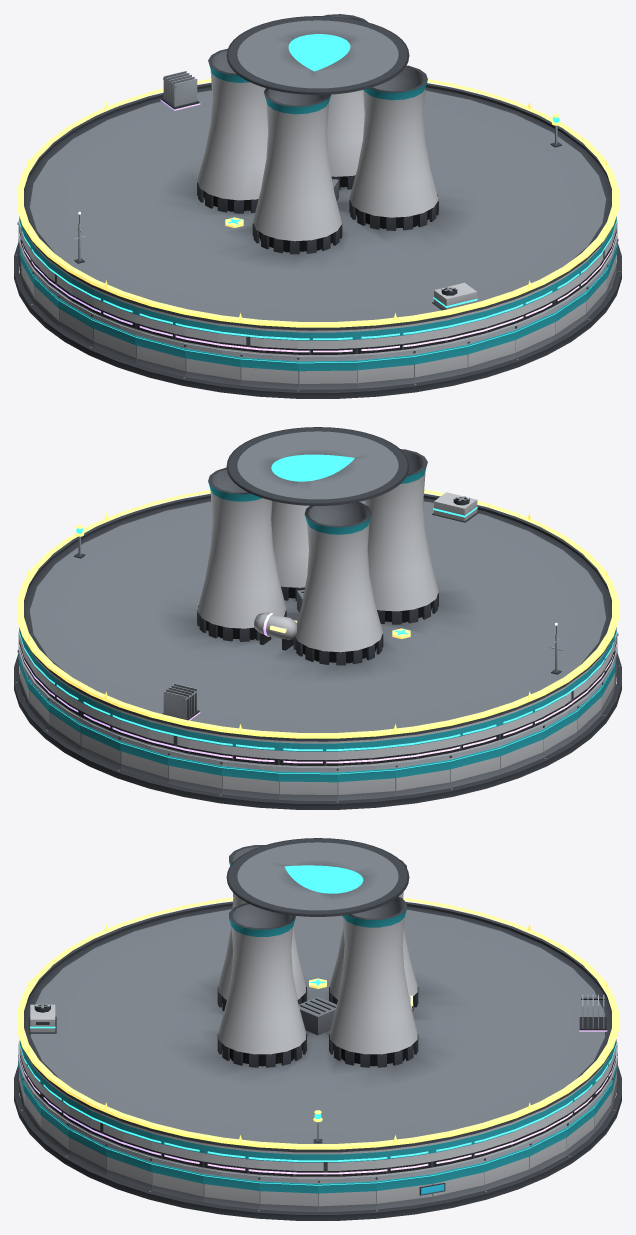
The model's file is atmo_processor_xl.glb.
The picture shows the model from 3 angles, top to bottom: view 1: azimuth 30°, elevation 25°; view 2: azimuth 150°, elevation 25°; view 3: azimuth 270°, elevation 25°; orthographic projection.
Parts seen in each view (by area): view 1: Roof, Base, Wall_20, Wall_21, Wall_22, Wall_19, Wall_23, Wall_18, Upper_21, Wall_24, Upper_22, Upper_20 (+17 smaller); view 2: Roof, Base, L4, Wall_11, Wall_10, Wall_09, Wall_12, Wall_08, Wall_13, Upper_10, Wall_07, Upper_09 (+17 smaller); view 3: Roof, Base, Wall_00, Wall_31, Wall_30, Wall_01, Wall_29, Wall_02, Upper_31, Upper_01, Upper_30, Wall_28 (+16 smaller).
Part boxes in pixels (x1,y1,x2,y2): Roof: (23,14,612,330); Base: (14,242,621,398); Wall_20: (240,354,298,389); Wall_21: (298,359,356,389); Wall_22: (357,354,414,388); Wall_19: (185,347,240,385); Wall_23: (414,343,467,383); Wall_18: (135,334,185,376); Upper_21: (298,329,356,356); Wall_24: (467,329,515,372); Upper_22: (357,324,413,355); Upper_20: (241,326,298,355); Roof: (23,427,612,741); Base: (14,653,621,809); L4: (162,612,297,720); Wall_11: (337,767,395,800); Wall_10: (279,770,337,800); Wall_09: (221,765,278,799); Wall_12: (395,759,450,796); Wall_08: (168,753,221,794); Wall_13: (450,745,500,787); Upper_10: (279,740,337,767); Wall_07: (120,740,168,783); Upper_09: (222,735,278,766); Roof: (23,838,612,1152); Base: (14,1066,621,1220); Wall_00: (318,1180,376,1211); Wall_31: (259,1180,317,1211); Wall_30: (203,1173,259,1209); Wall_01: (376,1173,432,1209); Wall_29: (151,1161,203,1202); Wall_02: (432,1161,484,1202); Upper_31: (259,1150,317,1177); Upper_01: (376,1143,432,1175); Upper_30: (203,1143,259,1175); Wall_28: (106,1144,151,1190).
Bounding box in the file's own units: 23.15 × 9.08 × 23.15.
